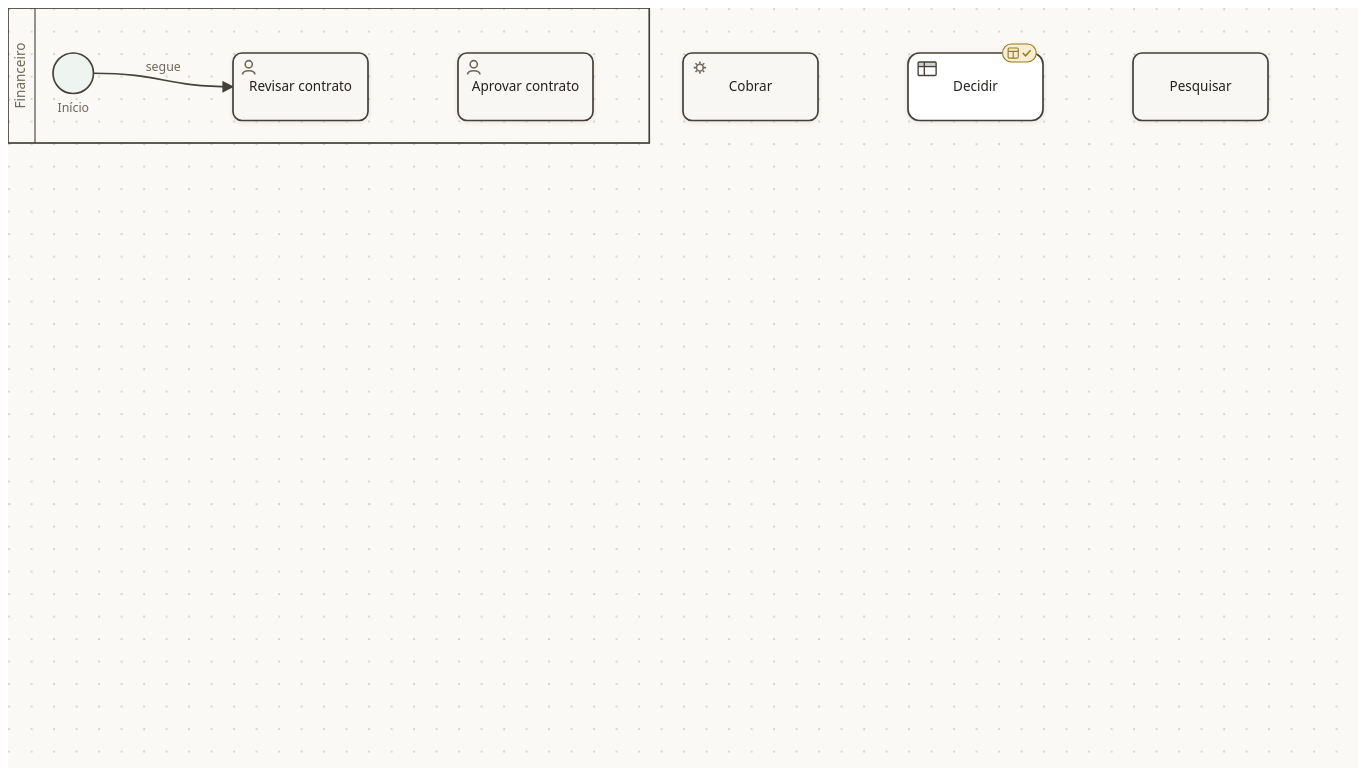
Test: search — spec 1c refinements (U-4) › property hits show key:value and the purple ref tag
Press f
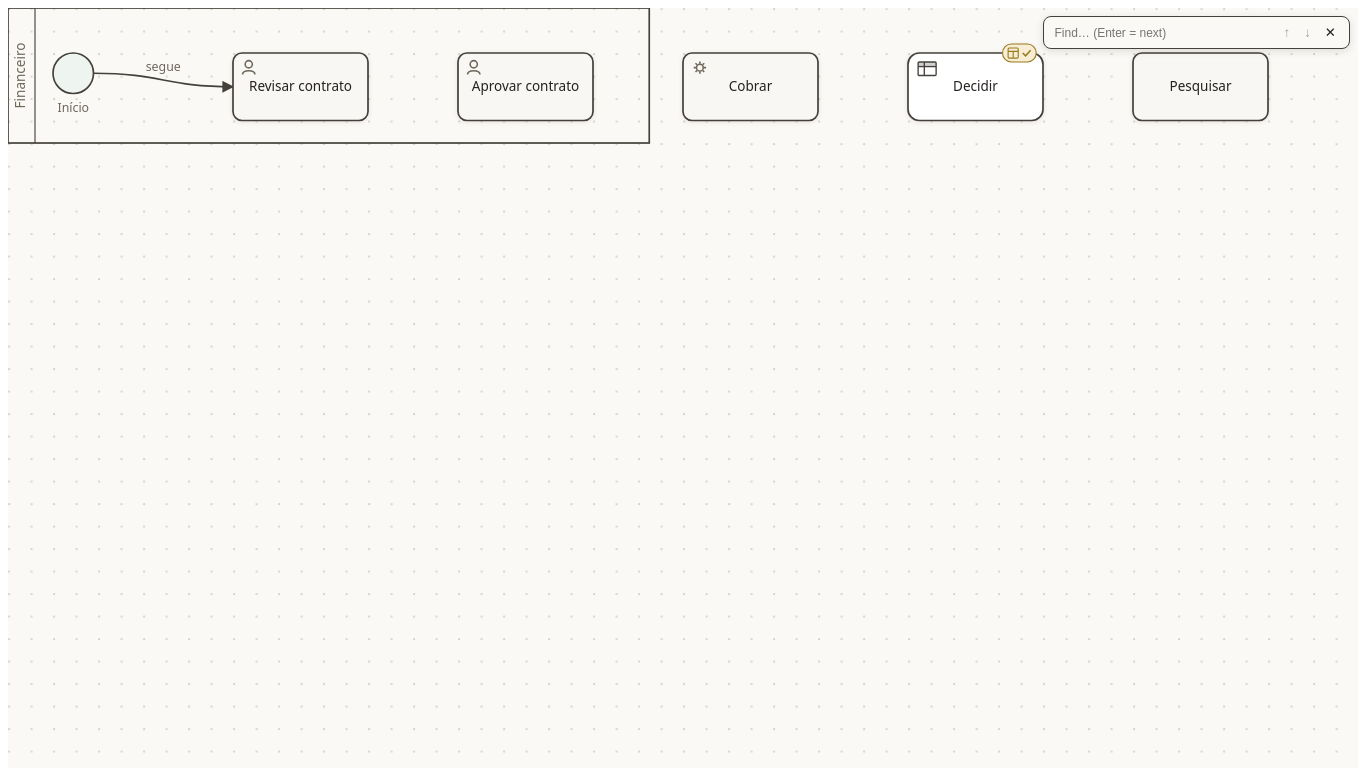
Type "agnt-rsch" into the field with placeholder "Find… (Enter = next)" at (1144, 32), box [1052,24,1236,40]
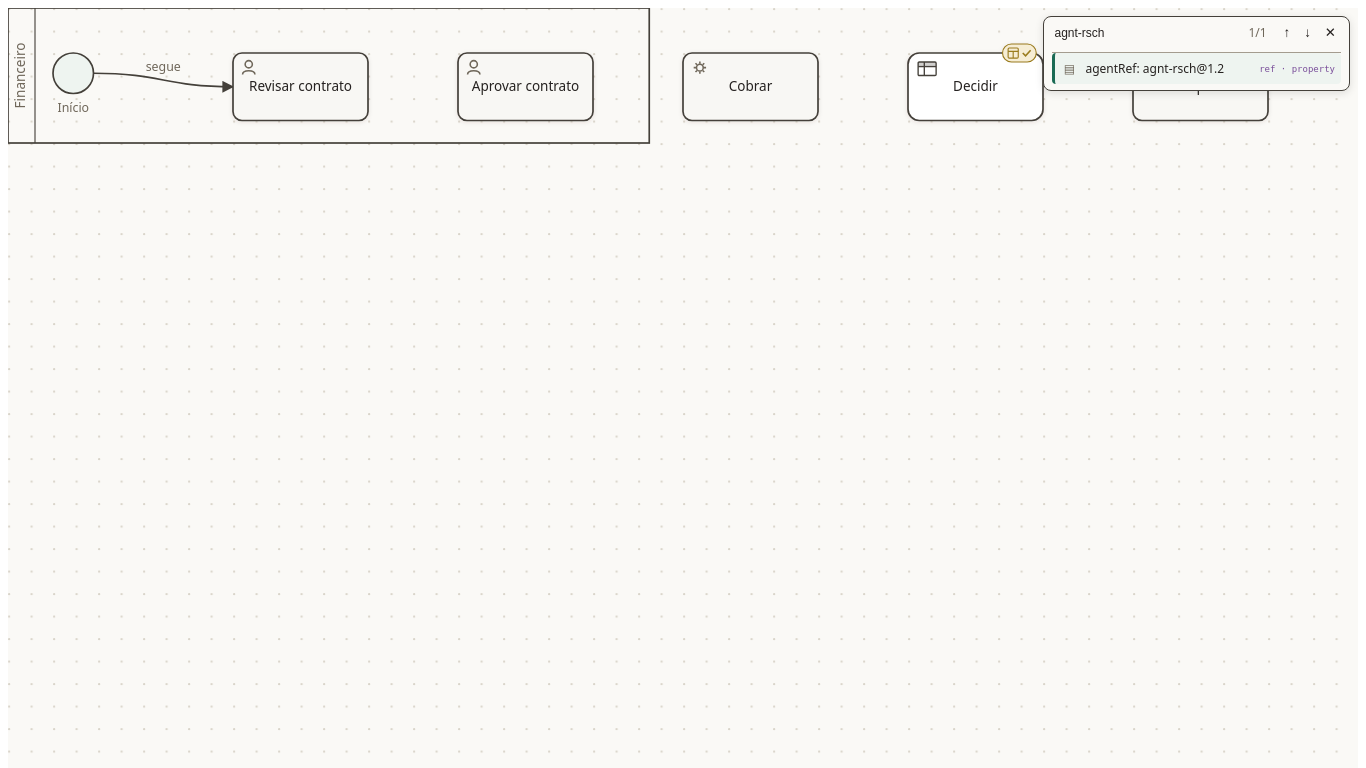
Expected: the option "▤ agentRef: agnt-rsch@1.2 ref · property" is shown, [1052,53,1341,84]
Expected: the text "ref · property" is shown, [1259,64,1335,74]
